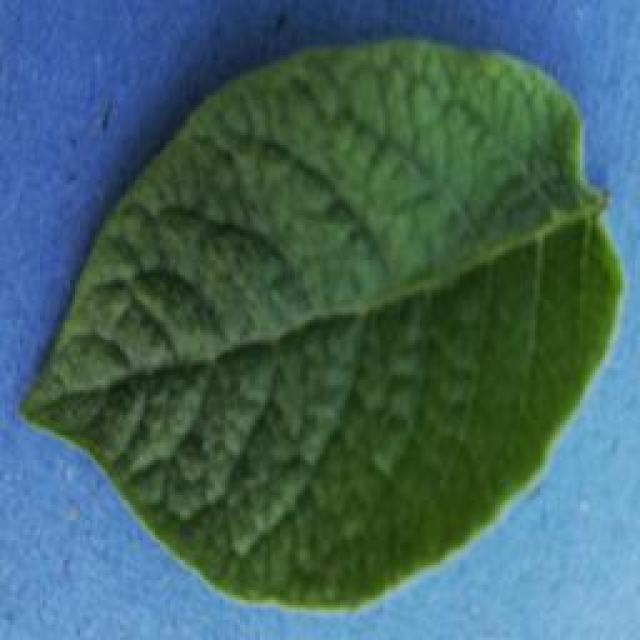Potato_Healthy: (23, 38, 618, 612)
